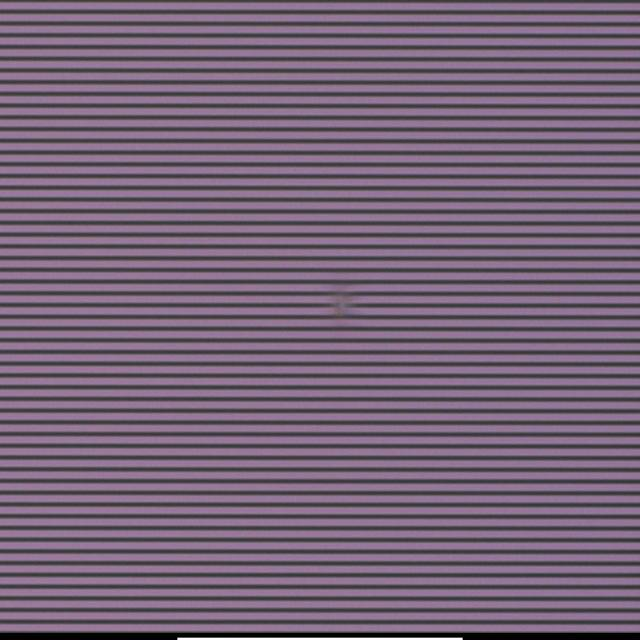nonvisual: (324, 287, 358, 324)
